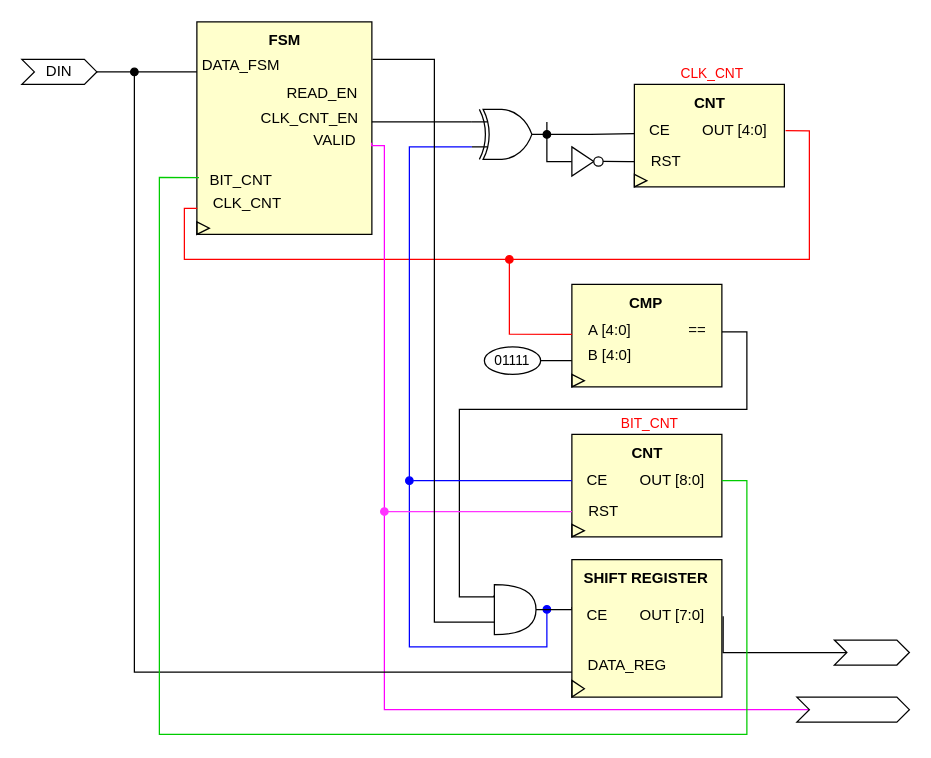
Image size: 931x758. Some labels were removed from this diagram. The centre of each missing label's shape, as x and y in pixels:
"DOUT" belongs at pixel 871 652.
"DOUT_VLD" belongs at pixel 852 709.
